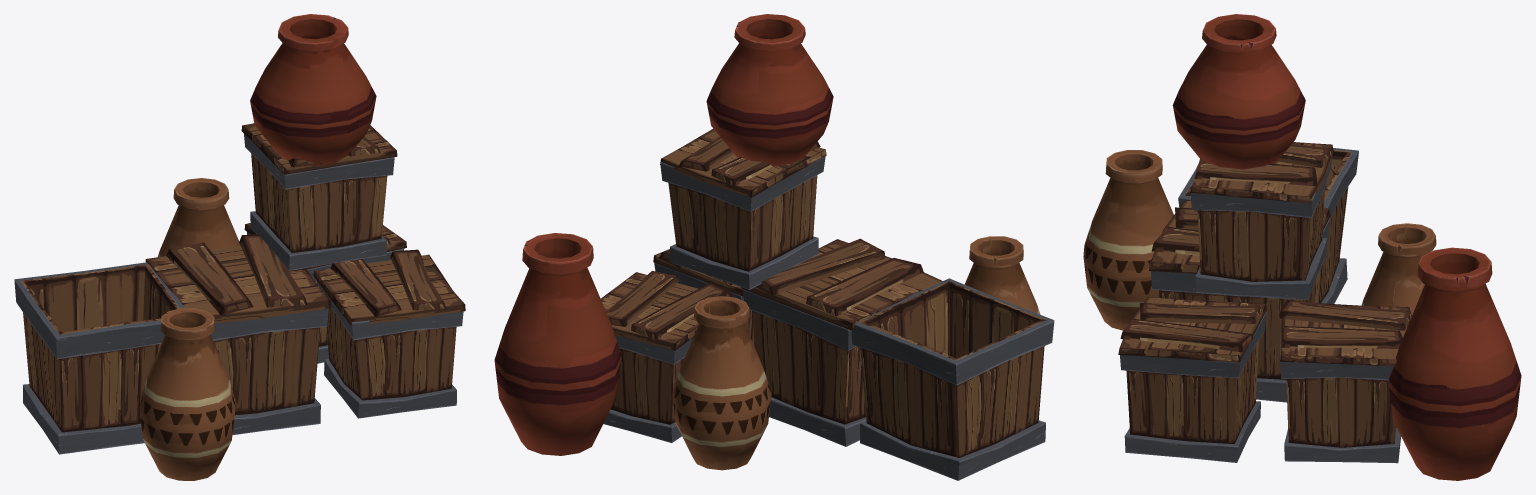
File: GardenObstales2.fbx
3 views of the same model, side by side, from view 1: azimuth 30°, elevation 25°; view 2: azimuth 150°, elevation 25°; view 3: azimuth 270°, elevation 25° (orthographic). The views are drawn at different scales.
Visible parts, largest first — view 1: SM_PROP_box_dungeon_04.001; view 2: SM_PROP_box_dungeon_04.001; view 3: SM_PROP_box_dungeon_04.001.
Part boxes in pixels (left/top/right/bottom): SM_PROP_box_dungeon_04.001: left=14, top=14, right=465, bottom=480; SM_PROP_box_dungeon_04.001: left=494, top=14, right=1054, bottom=480; SM_PROP_box_dungeon_04.001: left=1083, top=14, right=1521, bottom=480.
Size of the model in its own units: 3.15 by 2.51 by 2.62.
Materials: 2 (2 with a texture image).
